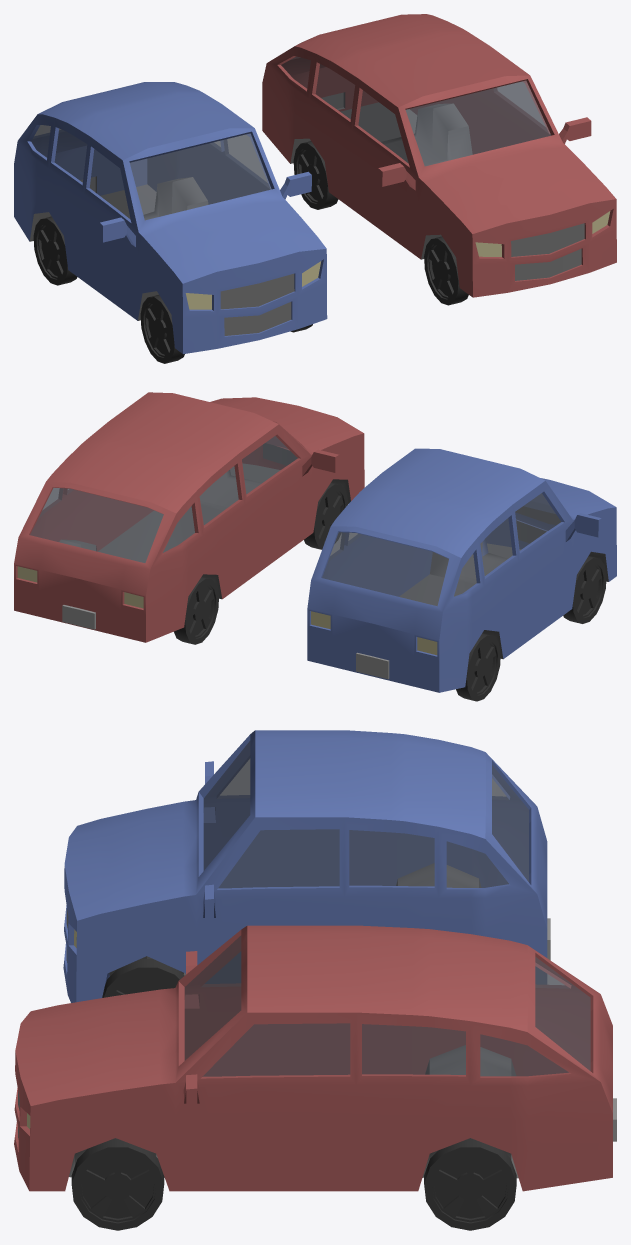
File: cars.fbx
The picture shows the model from 3 angles, top to bottom: view 1: azimuth 30°, elevation 25°; view 2: azimuth 150°, elevation 25°; view 3: azimuth 270°, elevation 25°; orthographic projection. The views are drawn at different scales.
Visible parts, largest first — view 1: car_model1, car_model2; view 2: car_model1, car_model2; view 3: car_model1, car_model2.
Boxes of the visible parts, x1,y1,x2,y2 form: car_model1: [262, 14, 616, 305]; car_model2: [14, 82, 327, 363]; car_model1: [14, 392, 364, 644]; car_model2: [307, 448, 616, 701]; car_model1: [14, 925, 616, 1230]; car_model2: [63, 730, 550, 1002].
Bounding box in the file's own units: 7.73 × 2.71 × 6.21.
